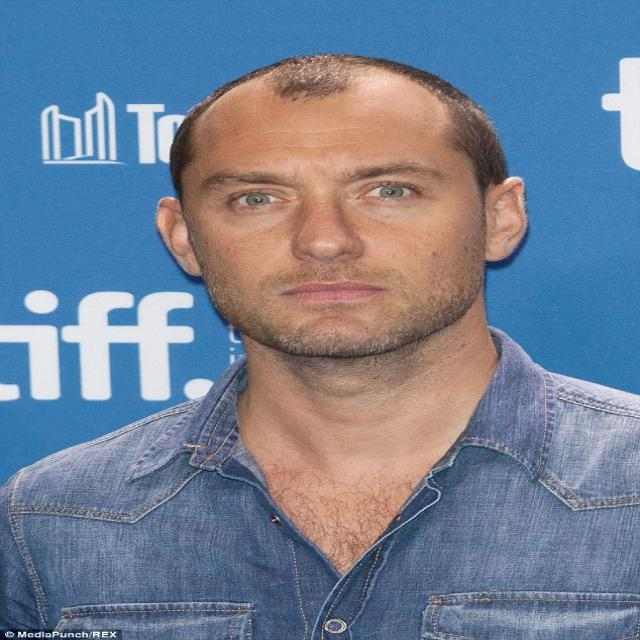no_helmet: (142, 45, 556, 207)
